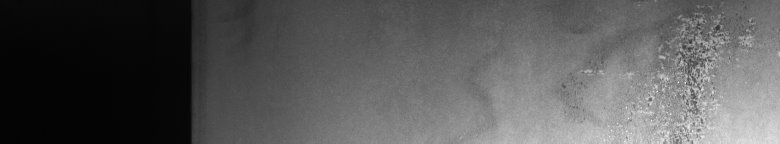hc: (562, 5, 760, 136)
